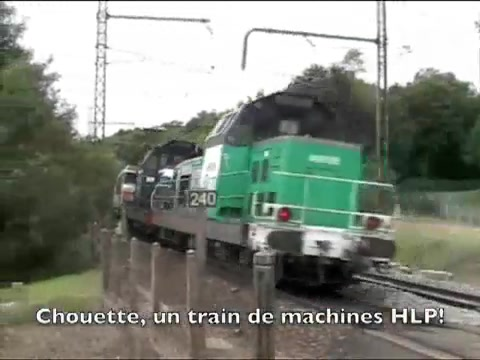train: (114, 94, 397, 291)
